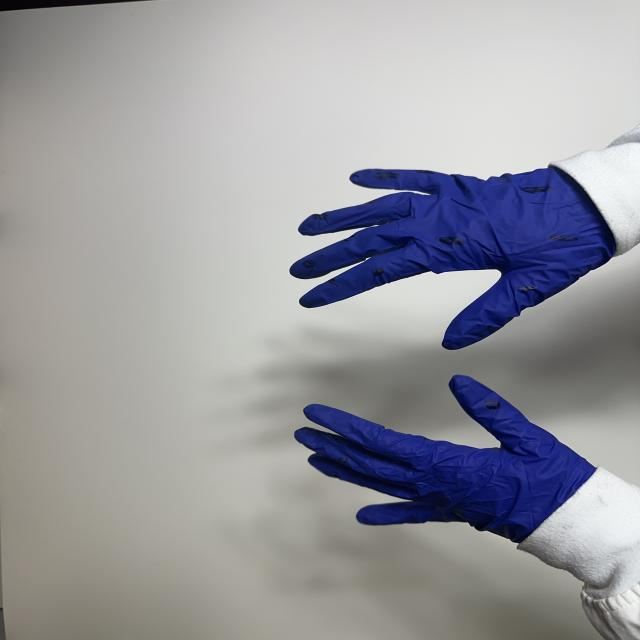gloves_contaminated: (290, 164, 615, 351), (282, 372, 592, 547)
